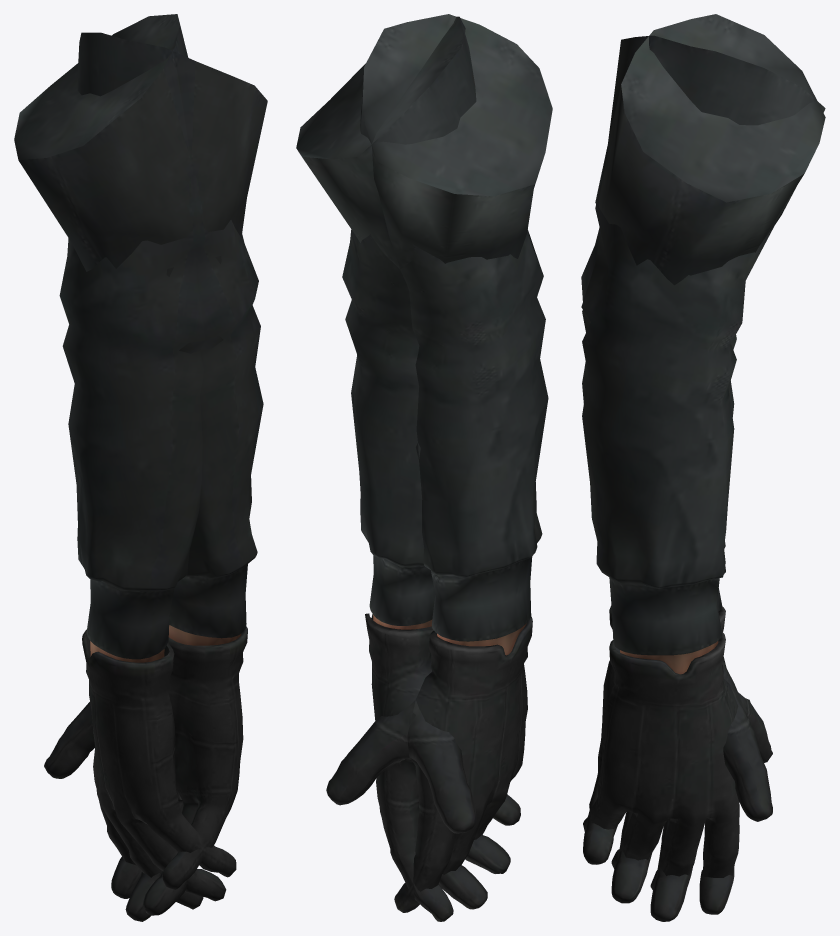
The model's file is fp-arms.glb.
3 renders of one model, left to right at view 1: azimuth 30°, elevation 25°; view 2: azimuth 150°, elevation 25°; view 3: azimuth 270°, elevation 25°, orthographic.
Parts seen in each view (by area): view 1: armR, armL; view 2: armR, armL; view 3: armL, armR.
Part boxes in pixels (<box>): armR: <box>59,32,267,909</box>; armL: <box>14,14,263,921</box>; armR: <box>296,16,548,912</box>; armL: <box>342,14,552,921</box>; armL: <box>581,35,825,889</box>; armR: <box>581,14,825,921</box>.
Size of the model in its own units: 0.3327 by 1.2 by 0.3029.
Materials: 1 (1 with a texture image).
